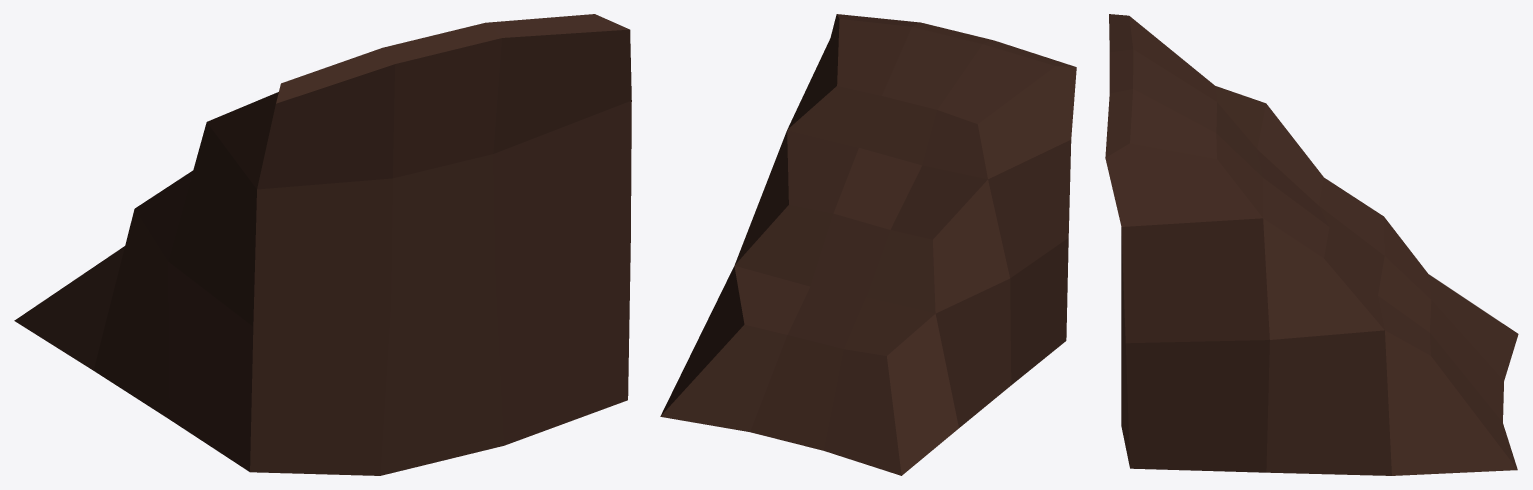
The model's file is basic_slope.fbx.
3 renders of one model, left to right at view 1: azimuth 30°, elevation 25°; view 2: azimuth 150°, elevation 25°; view 3: azimuth 270°, elevation 25°, orthographic. The views are drawn at different scales.
Parts seen in each view (by area): view 1: slope; view 2: slope; view 3: slope.
Boxes of the visible parts, left/top/right/bottom form: slope: left=14, top=14, right=631, bottom=475; slope: left=660, top=14, right=1076, bottom=475; slope: left=1105, top=14, right=1518, bottom=475.
Size of the model in its own units: 372 by 403 by 453.
